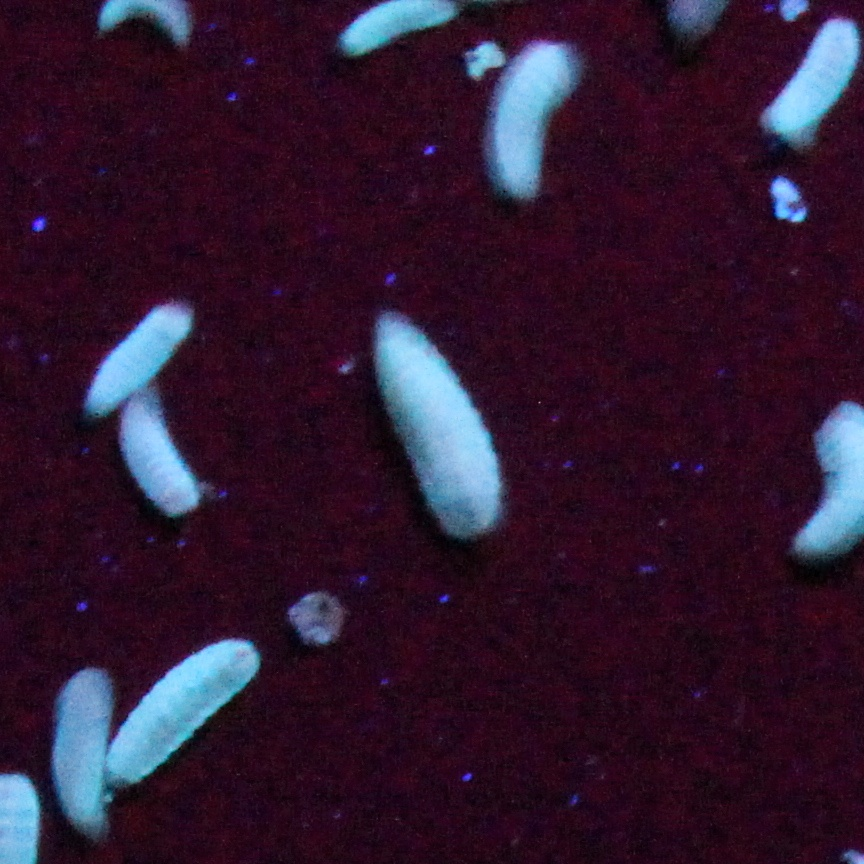larve: (358, 308, 498, 528), (98, 648, 264, 794), (498, 34, 571, 221), (84, 301, 191, 428), (764, 34, 851, 154), (124, 414, 204, 528), (58, 664, 111, 835), (345, 3, 458, 58)
